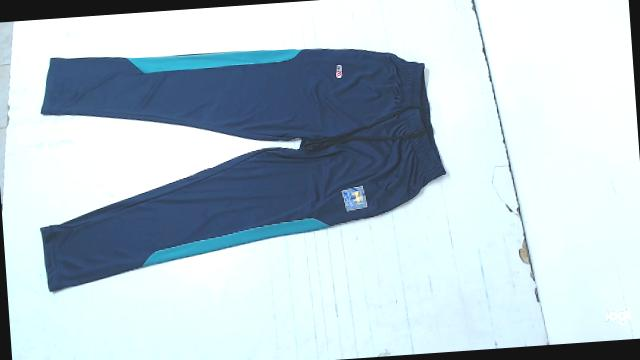new-garment: (40, 48, 445, 291)
